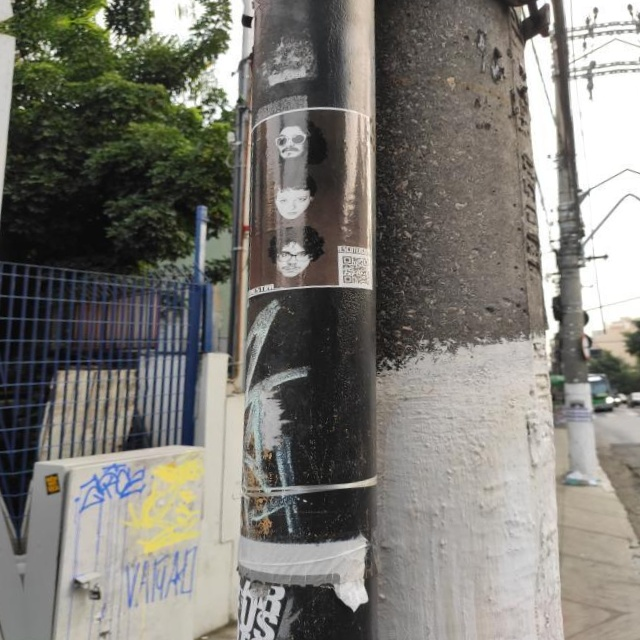qr-code: (341, 254, 372, 287)
